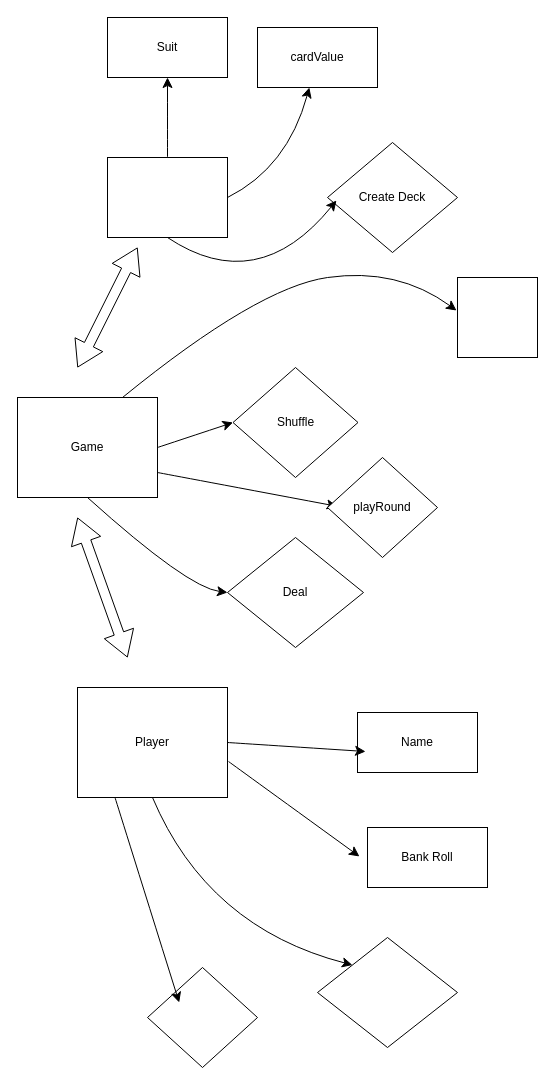
The diagram is 555 pixels wide and 1085 high, and some of its shapes have lost their labels. Here are the shapes that lost their labels. From the top down, the centre of each, then its label:
At [167,197]: "Deck".
At [497,317]: "Round".
At [387,992]: "Take Bet".
At [202,1017]: "Add Winnings".
